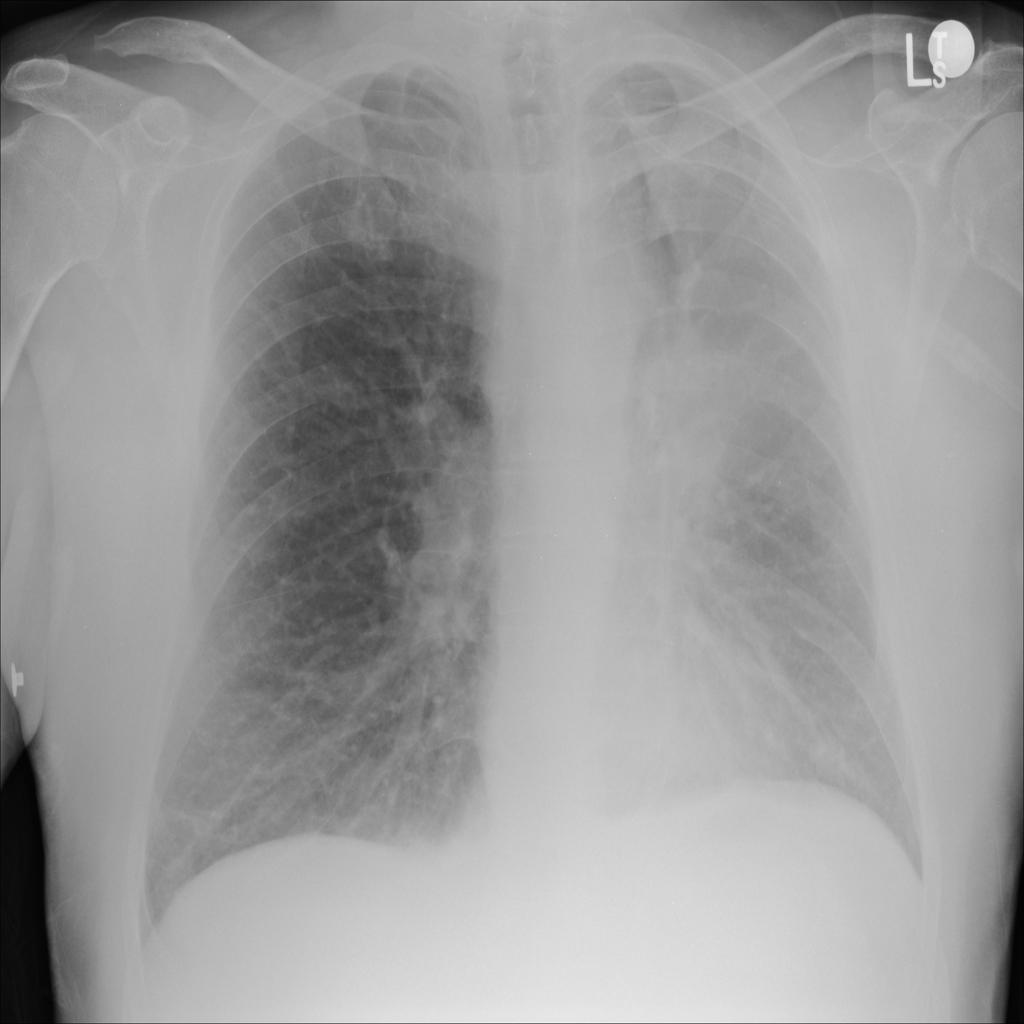nodule: (794, 716, 864, 794)
